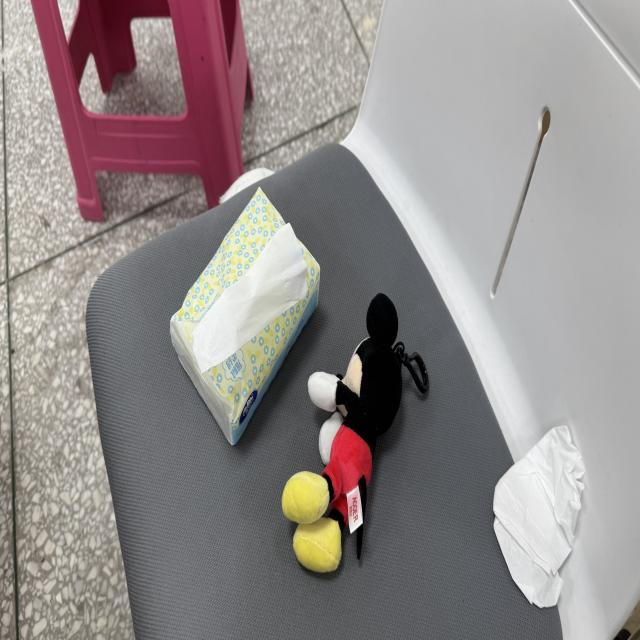mickey: (282, 294, 428, 572)
tissue: (171, 189, 320, 443), (192, 224, 308, 372), (494, 426, 584, 606), (495, 518, 563, 607)
